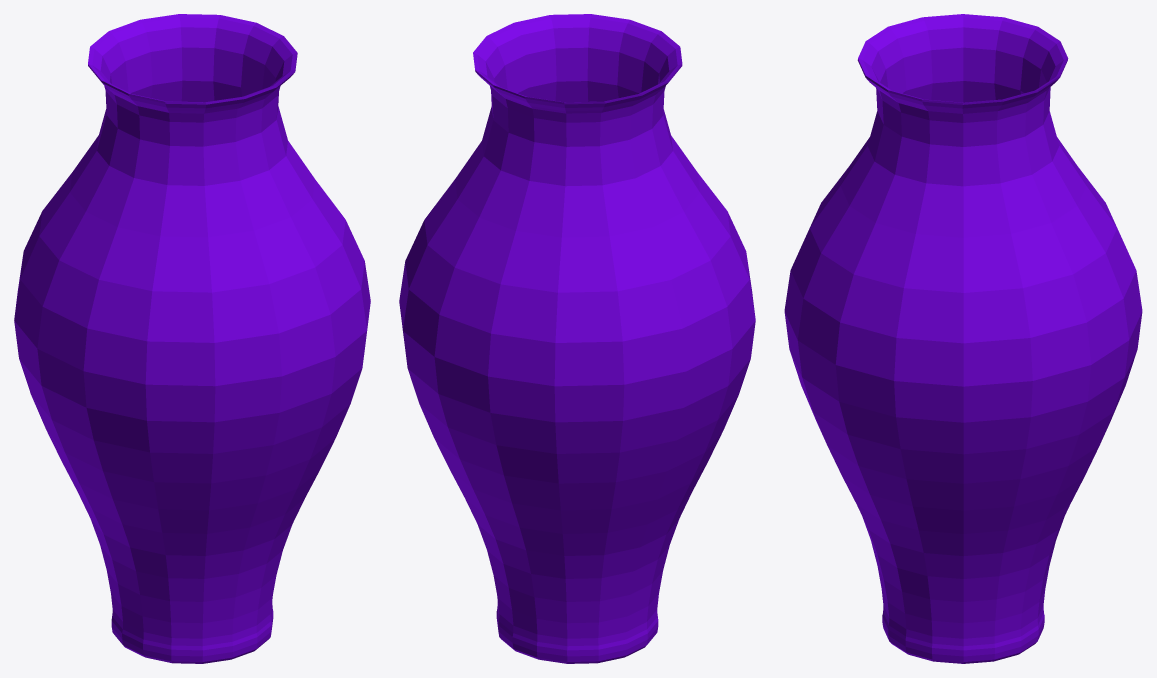
File: GGJ-Vase01.fbx
3 renders of one model, left to right at view 1: azimuth 30°, elevation 25°; view 2: azimuth 150°, elevation 25°; view 3: azimuth 270°, elevation 25°, orthographic.
Parts seen in each view (by area): view 1: Vase; view 2: Vase; view 3: Vase.
Boxes of the visible parts, x1,y1,x2,y2 form: Vase: (14,14,370,663); Vase: (399,14,755,663); Vase: (784,14,1142,663).
Bounding box in the file's own units: 56.87 × 56.87 × 101.
